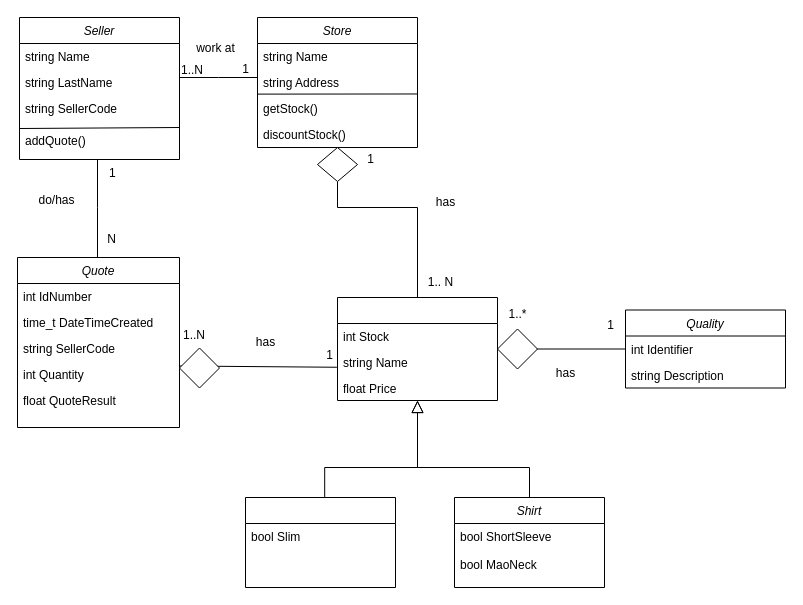
This 803x605 diagram has some shape labels left out. Here are the shapes that lost their labels. From the top down, the box of each, then its label:
(336, 296, 498, 400): Garment
(244, 496, 396, 588): Pants
